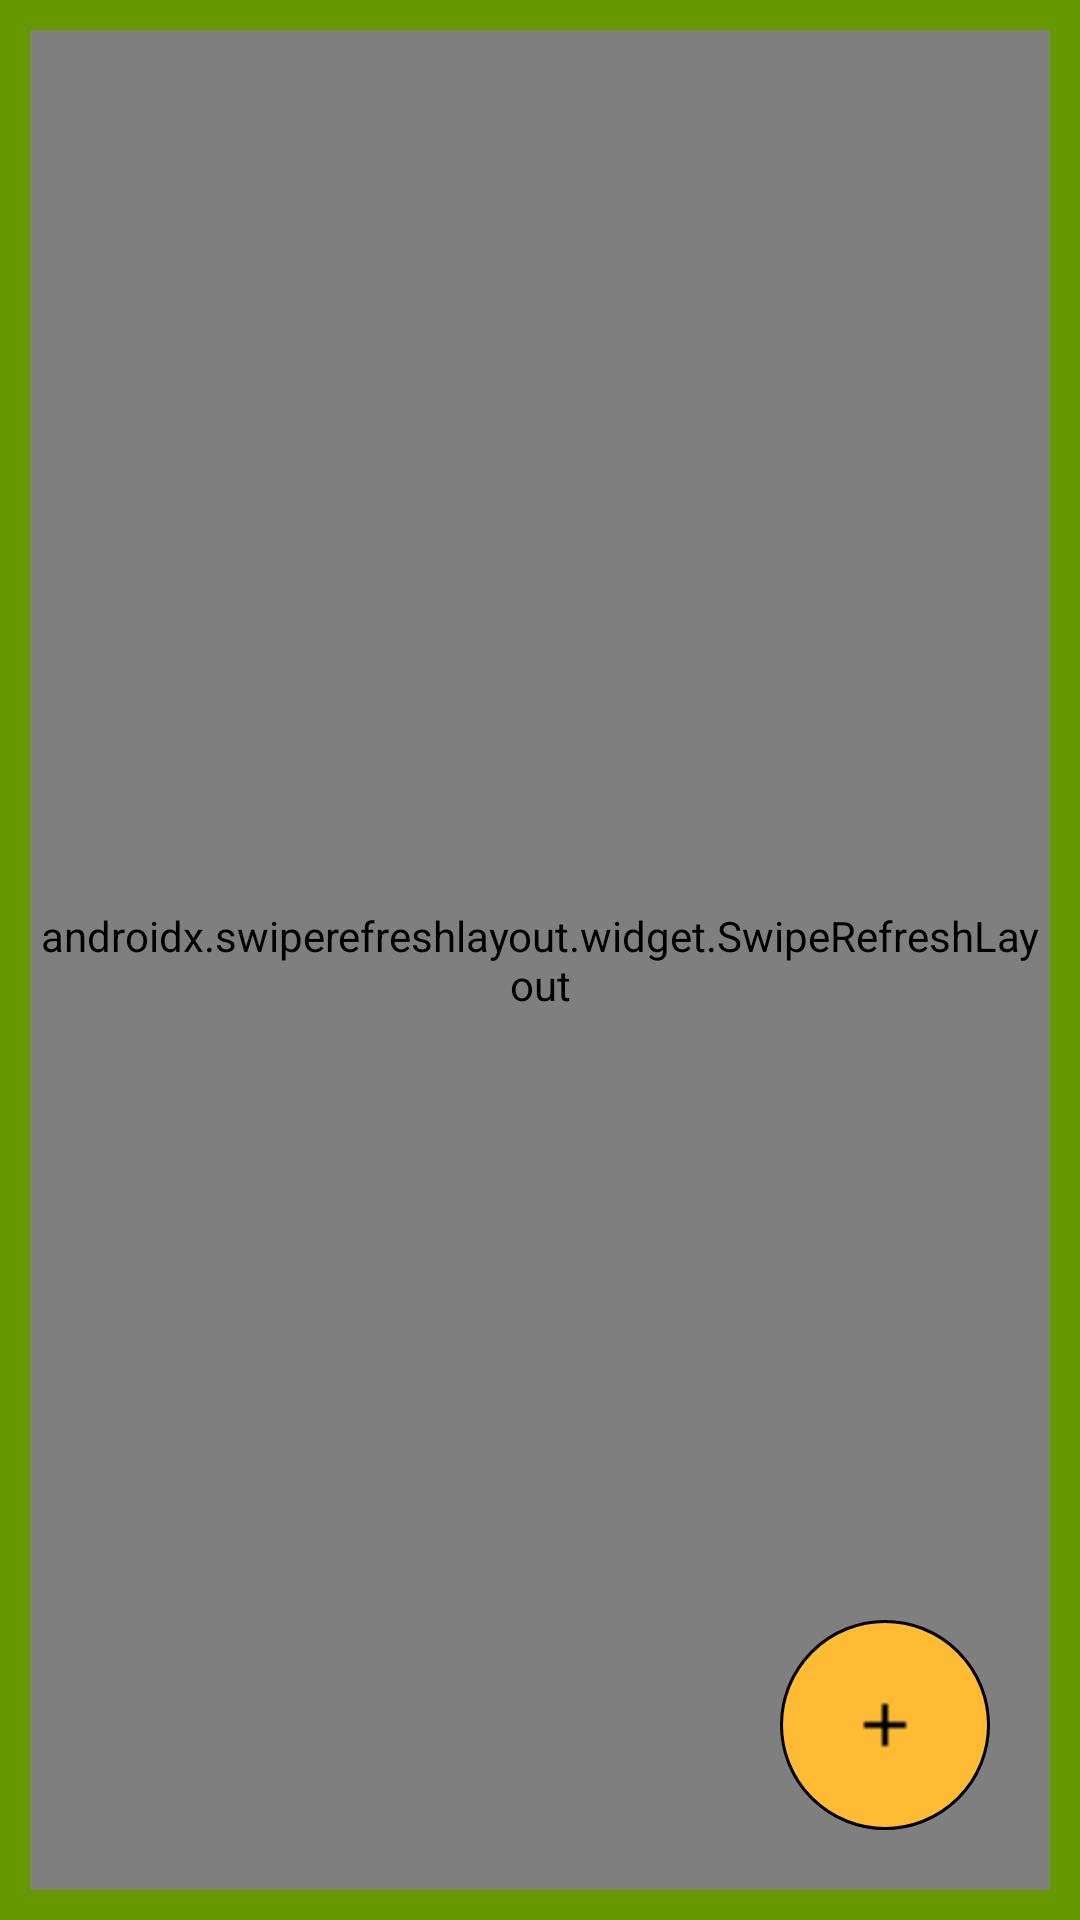

Named icons in this screenshot (1080px x 1920px) and their centers, point (x, y):
plus: point (885, 1725)
